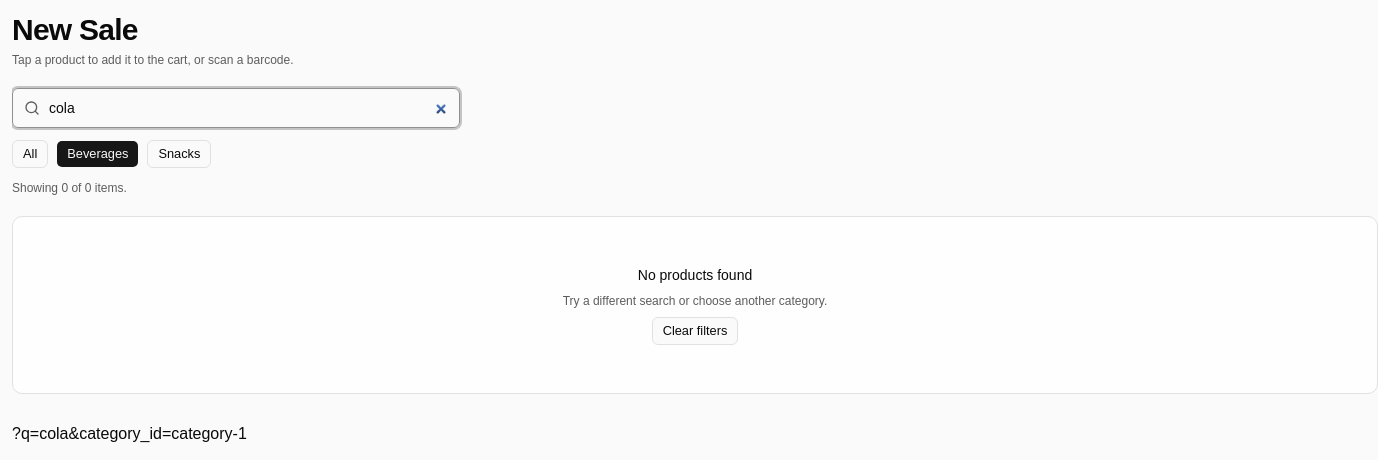
Test case: NewSalePage › clears search and category from an empty result
Expected: the text "No products found" is shown, top-left (638, 265), bottom-right (752, 285)
Click the button "Clear filters" at (695, 331), box top-left (652, 317), bottom-right (738, 345)
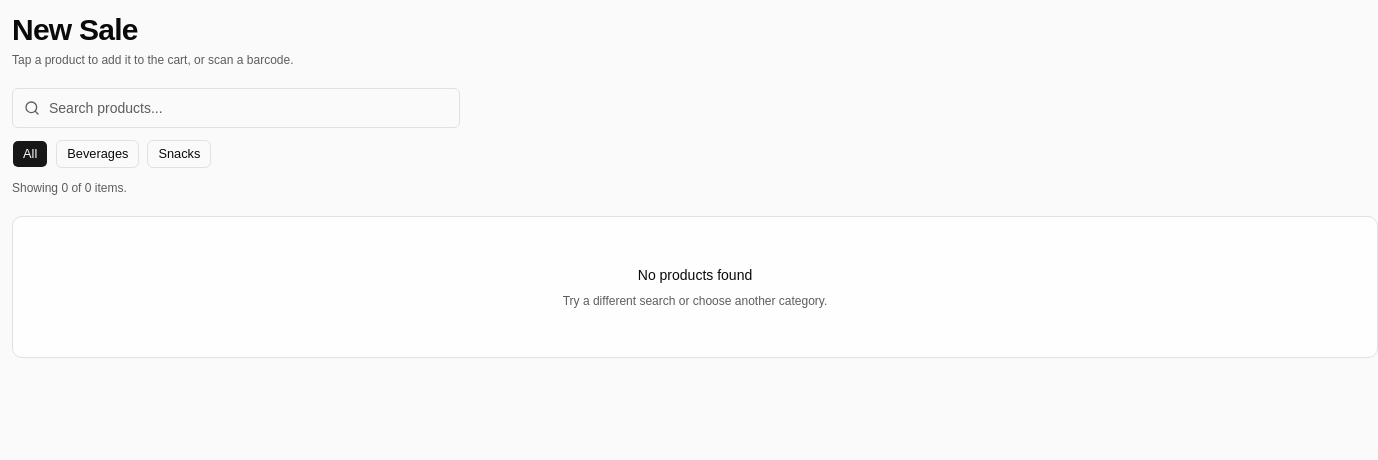
Expected: the search field named "Search products or scan a barcode" is empty, top-left (13, 88), bottom-right (459, 128)
